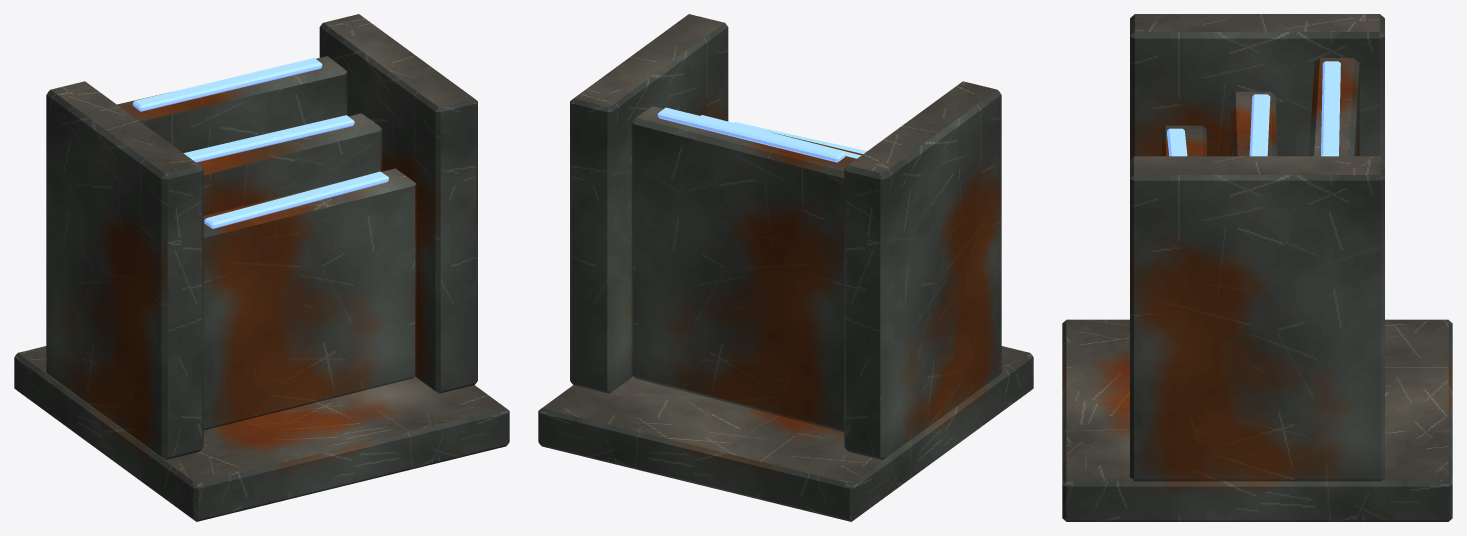
Rendered from R4X_WallDeployer_LOD1.glb.
The picture shows the model from 3 angles, left to right: view 1: azimuth 30°, elevation 25°; view 2: azimuth 150°, elevation 25°; view 3: azimuth 270°, elevation 25°; orthographic projection. The views are drawn at different scales.
Visible parts, largest first — view 1: R4X_WallDeployer_LOD1; view 2: R4X_WallDeployer_LOD1; view 3: R4X_WallDeployer_LOD1.
Part boxes in pixels (left/top/right/bottom): R4X_WallDeployer_LOD1: left=14, top=14, right=509, bottom=521; R4X_WallDeployer_LOD1: left=538, top=14, right=1033, bottom=521; R4X_WallDeployer_LOD1: left=1062, top=14, right=1452, bottom=521.
Bounding box in the file's own units: 0.52 × 0.51 × 0.52.
3 materials, 2 textured.
